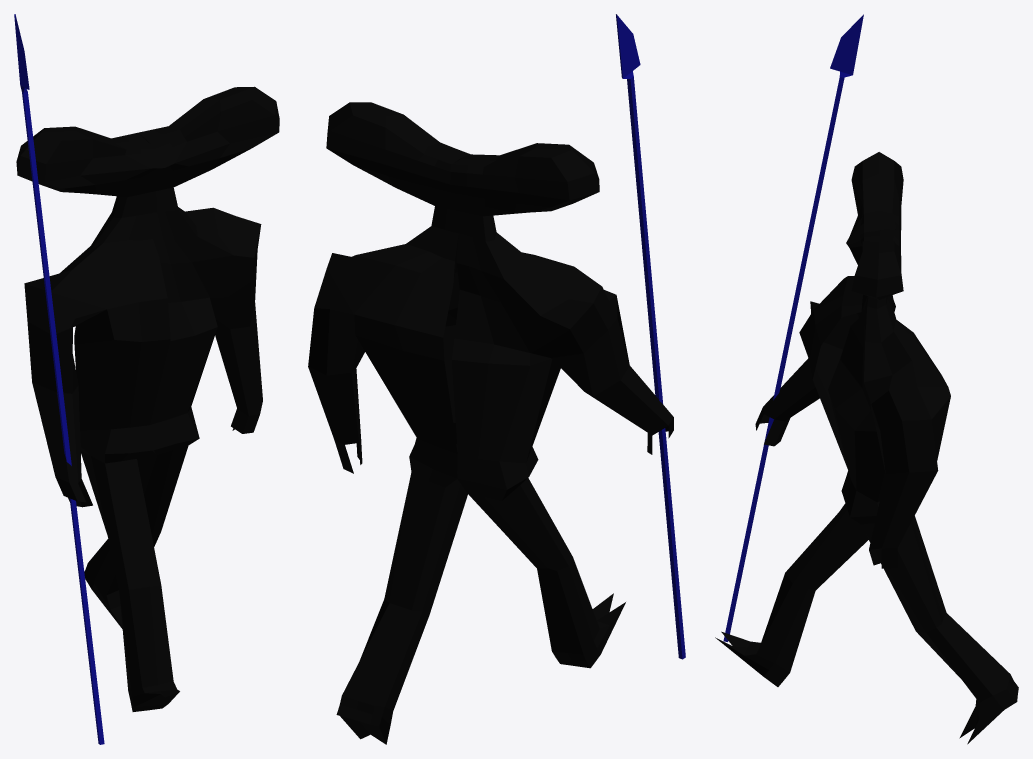
Rendered from Spearman3w.obj.
3 views of the same model, side by side, from view 1: azimuth 30°, elevation 25°; view 2: azimuth 150°, elevation 25°; view 3: azimuth 270°, elevation 25° (orthographic). The views are drawn at different scales.
Visible parts, largest first — view 1: Cube; view 2: Cube; view 3: Cube.
Part boxes in pixels (<box>): Cube: <box>14,14,279,744</box>; Cube: <box>308,14,685,744</box>; Cube: <box>715,14,1018,744</box>.
Bounding box in the file's own units: 0.7471 × 1.83 × 0.7775.
